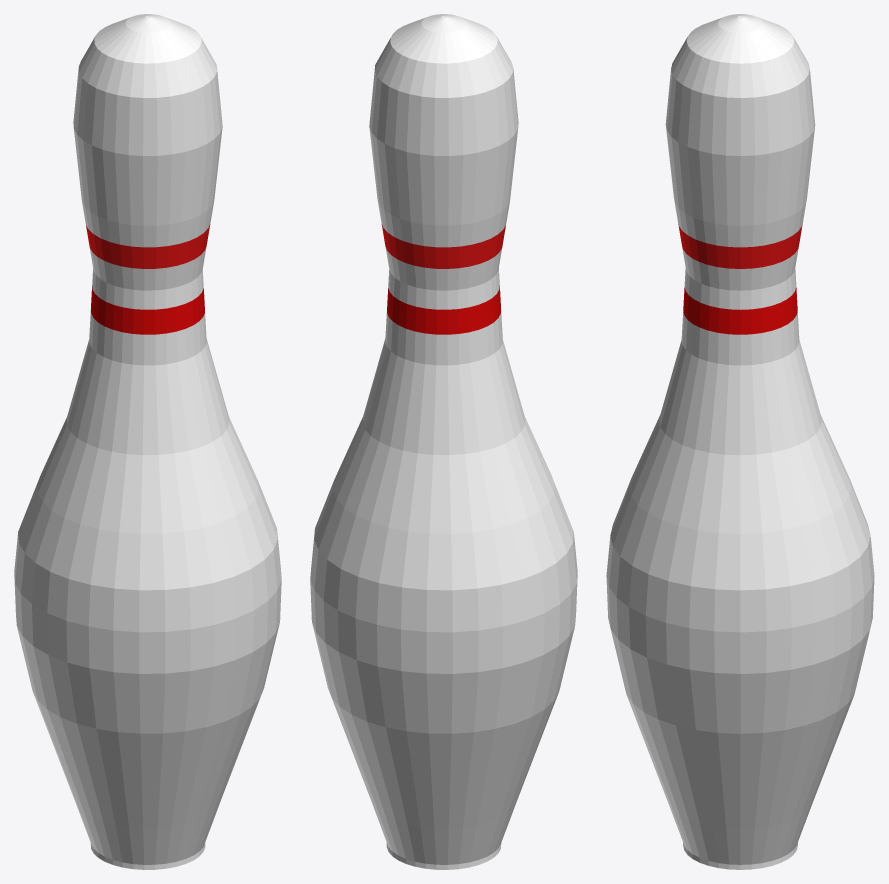
The model's file is Bowling pin .fbx.
The picture shows the model from 3 angles, left to right: view 1: azimuth 30°, elevation 25°; view 2: azimuth 150°, elevation 25°; view 3: azimuth 270°, elevation 25°; orthographic projection.
Parts seen in each view (by area): view 1: Cylinder; view 2: Cylinder; view 3: Cylinder.
Boxes of the visible parts, x1,y1,x2,y2 form: Cylinder: [14, 14, 281, 869]; Cylinder: [310, 14, 577, 869]; Cylinder: [606, 14, 874, 869].
Bounding box in the file's own units: 94.86 × 324 × 94.86.
